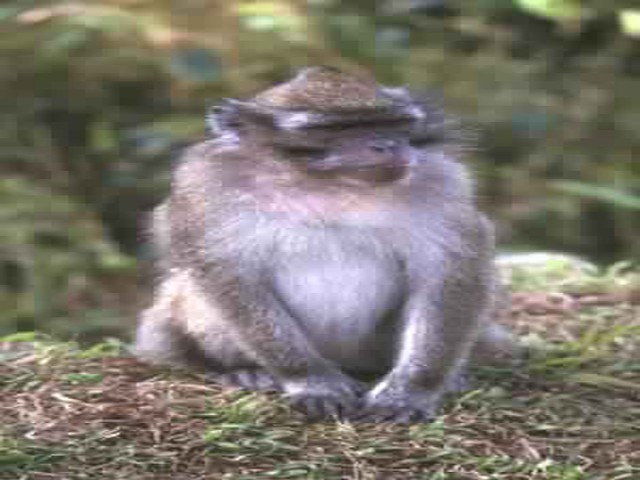Monkey: (136, 61, 523, 429)
